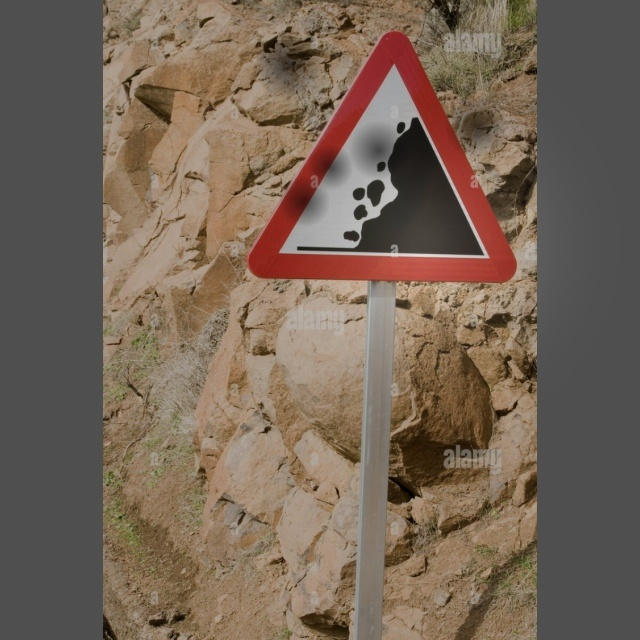Falling_Rocks: (257, 40, 516, 281)
